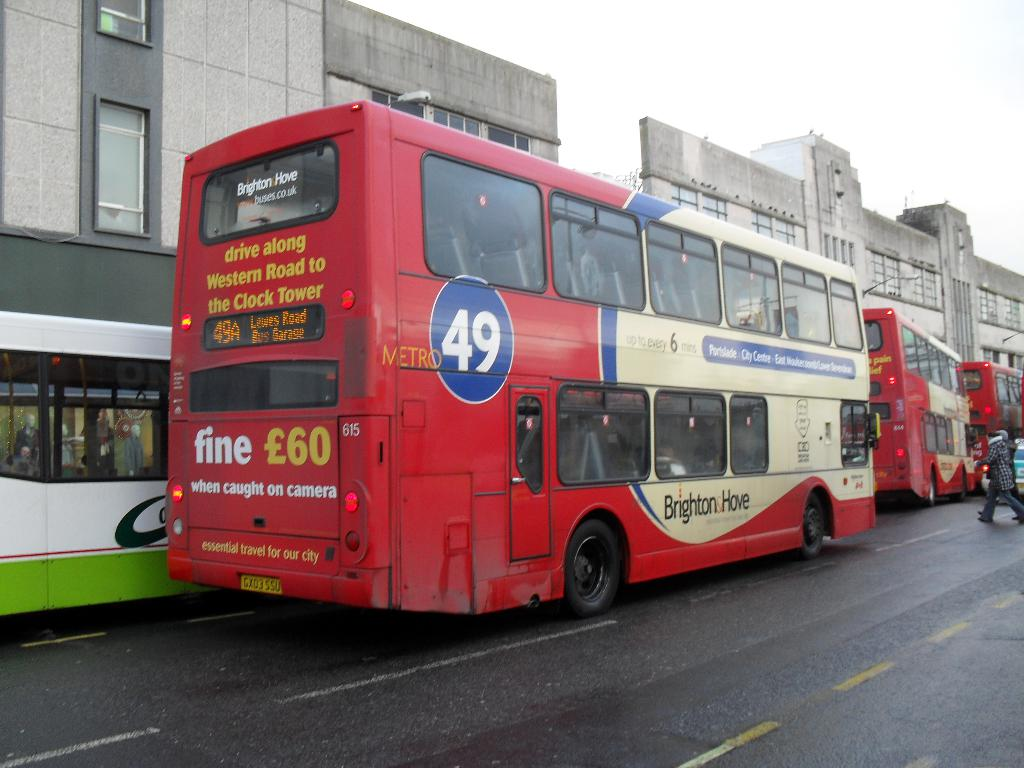Car: (981, 440, 1023, 493)
